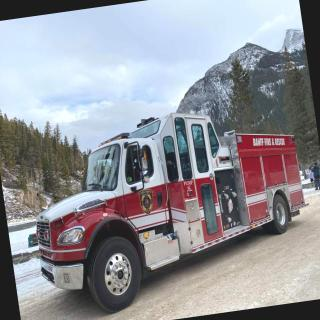Fire_truck: (20, 94, 320, 320)
